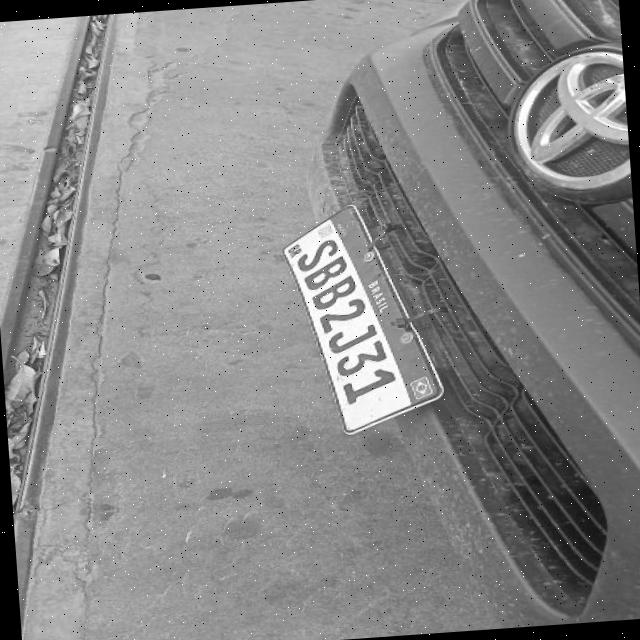placa_mercosul: (285, 199, 449, 438)
